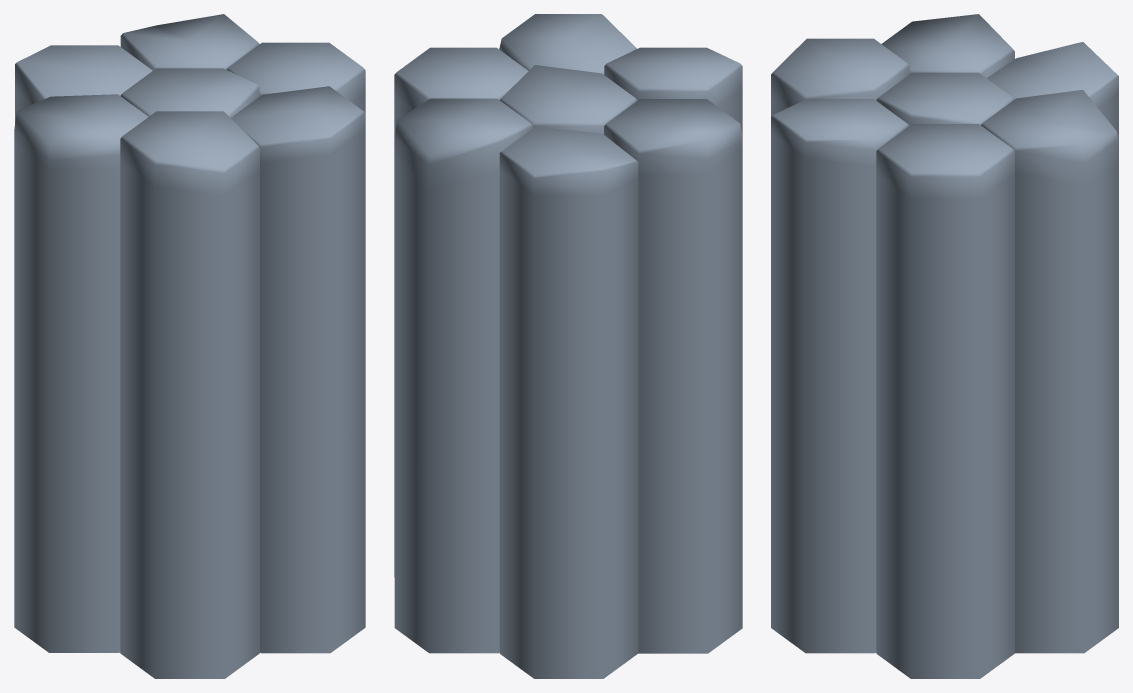
File: HexVariation5.fbx
The picture shows the model from 3 angles, left to right: view 1: azimuth 30°, elevation 25°; view 2: azimuth 150°, elevation 25°; view 3: azimuth 270°, elevation 25°; orthographic projection.
Parts seen in each view (by area): view 1: Cylinder.006, Cylinder.002, Cylinder.001, Cylinder.005, Cylinder.000, Cylinder.004, Cylinder.003; view 2: Cylinder.005, Cylinder.004, Cylinder.001, Cylinder.006, Cylinder.000, Cylinder.003, Cylinder.002; view 3: Cylinder.000, Cylinder.002, Cylinder.004, Cylinder.006, Cylinder.001, Cylinder.005, Cylinder.003.
Boxes of the visible parts, x1,y1,x2,y2 form: Cylinder.006: (120,111,259,678); Cylinder.002: (231,86,365,653); Cylinder.001: (14,94,148,652); Cylinder.005: (15,45,152,123); Cylinder.000: (226,42,365,112); Cylinder.004: (120,14,259,70); Cylinder.003: (120,68,259,117); Cylinder.005: (499,126,638,678); Cylinder.004: (394,98,533,653); Cylinder.001: (604,99,742,653); Cylinder.006: (604,47,742,138); Cylinder.000: (394,47,528,576); Cylinder.003: (500,65,637,134); Cylinder.002: (499,14,636,74); Cylinder.000: (876,124,1014,678); Cylinder.002: (771,99,909,653); Cylinder.004: (981,90,1118,653); Cylinder.006: (771,38,909,116); Cylinder.001: (881,14,1014,77); Cylinder.005: (986,42,1118,138); Cylinder.003: (876,72,1014,125).
Size of the model in its own units: 520 by 814 by 499.
